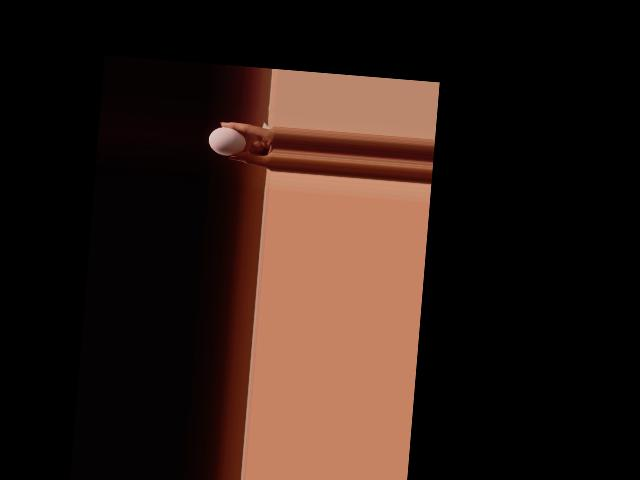egg: (207, 125, 247, 157)
